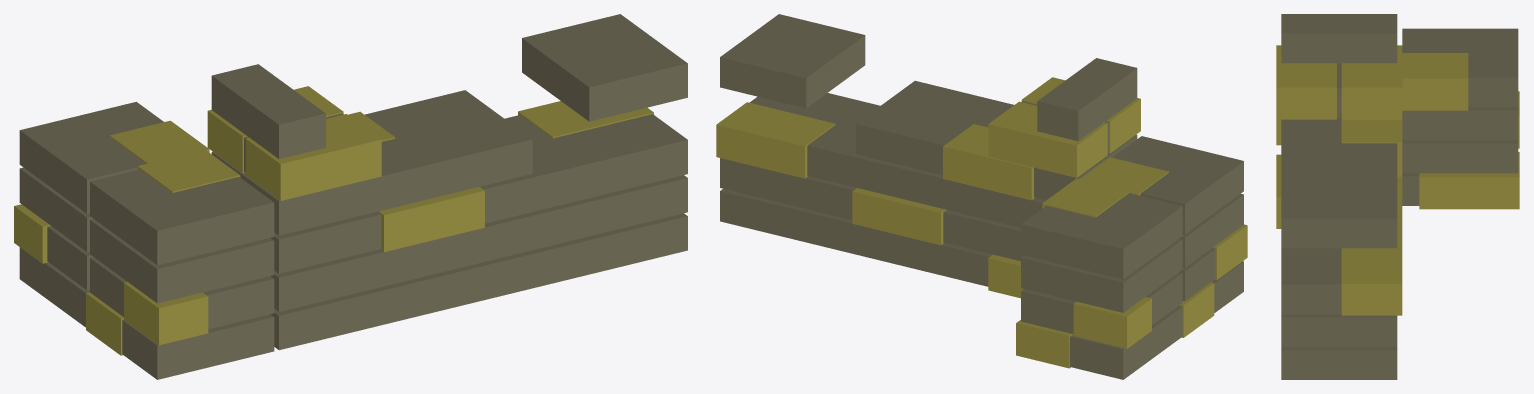
File: SM_SacosRemate_v2_Irregular_e0_Sano_LOD1.fbx
3 renders of one model, left to right at view 1: azimuth 30°, elevation 25°; view 2: azimuth 150°, elevation 25°; view 3: azimuth 270°, elevation 25°, orthographic. The views are drawn at different scales.
Visible parts, largest first — view 1: SM_sacos_piezas_v28_LOD1; view 2: SM_sacos_piezas_v28_LOD1; view 3: SM_sacos_piezas_v28_LOD1.
Boxes of the visible parts, box(x1,y1,x2,y2) form: SM_sacos_piezas_v28_LOD1: box(14, 14, 687, 379); SM_sacos_piezas_v28_LOD1: box(716, 14, 1247, 379); SM_sacos_piezas_v28_LOD1: box(1276, 14, 1519, 379).
Bounding box in the file's own units: 4.41 × 1.78 × 2.01.
